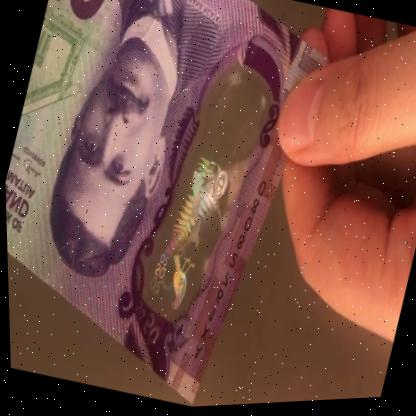50F: (137, 72, 269, 325)
